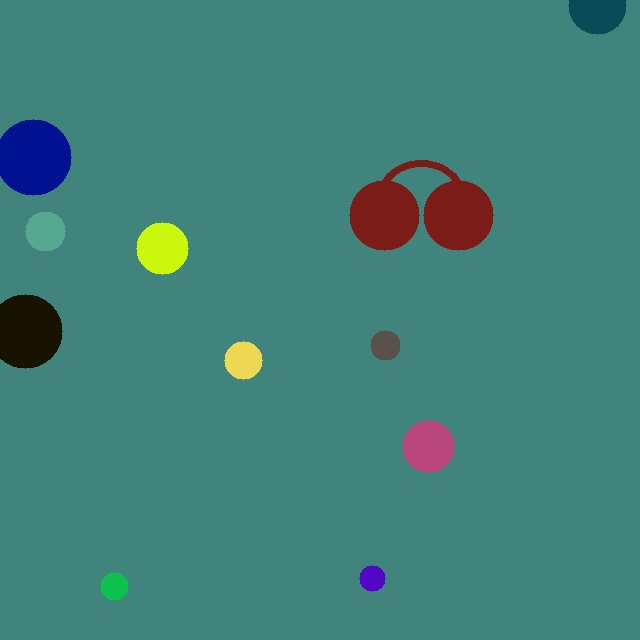over_ear: (345, 154, 497, 254)
